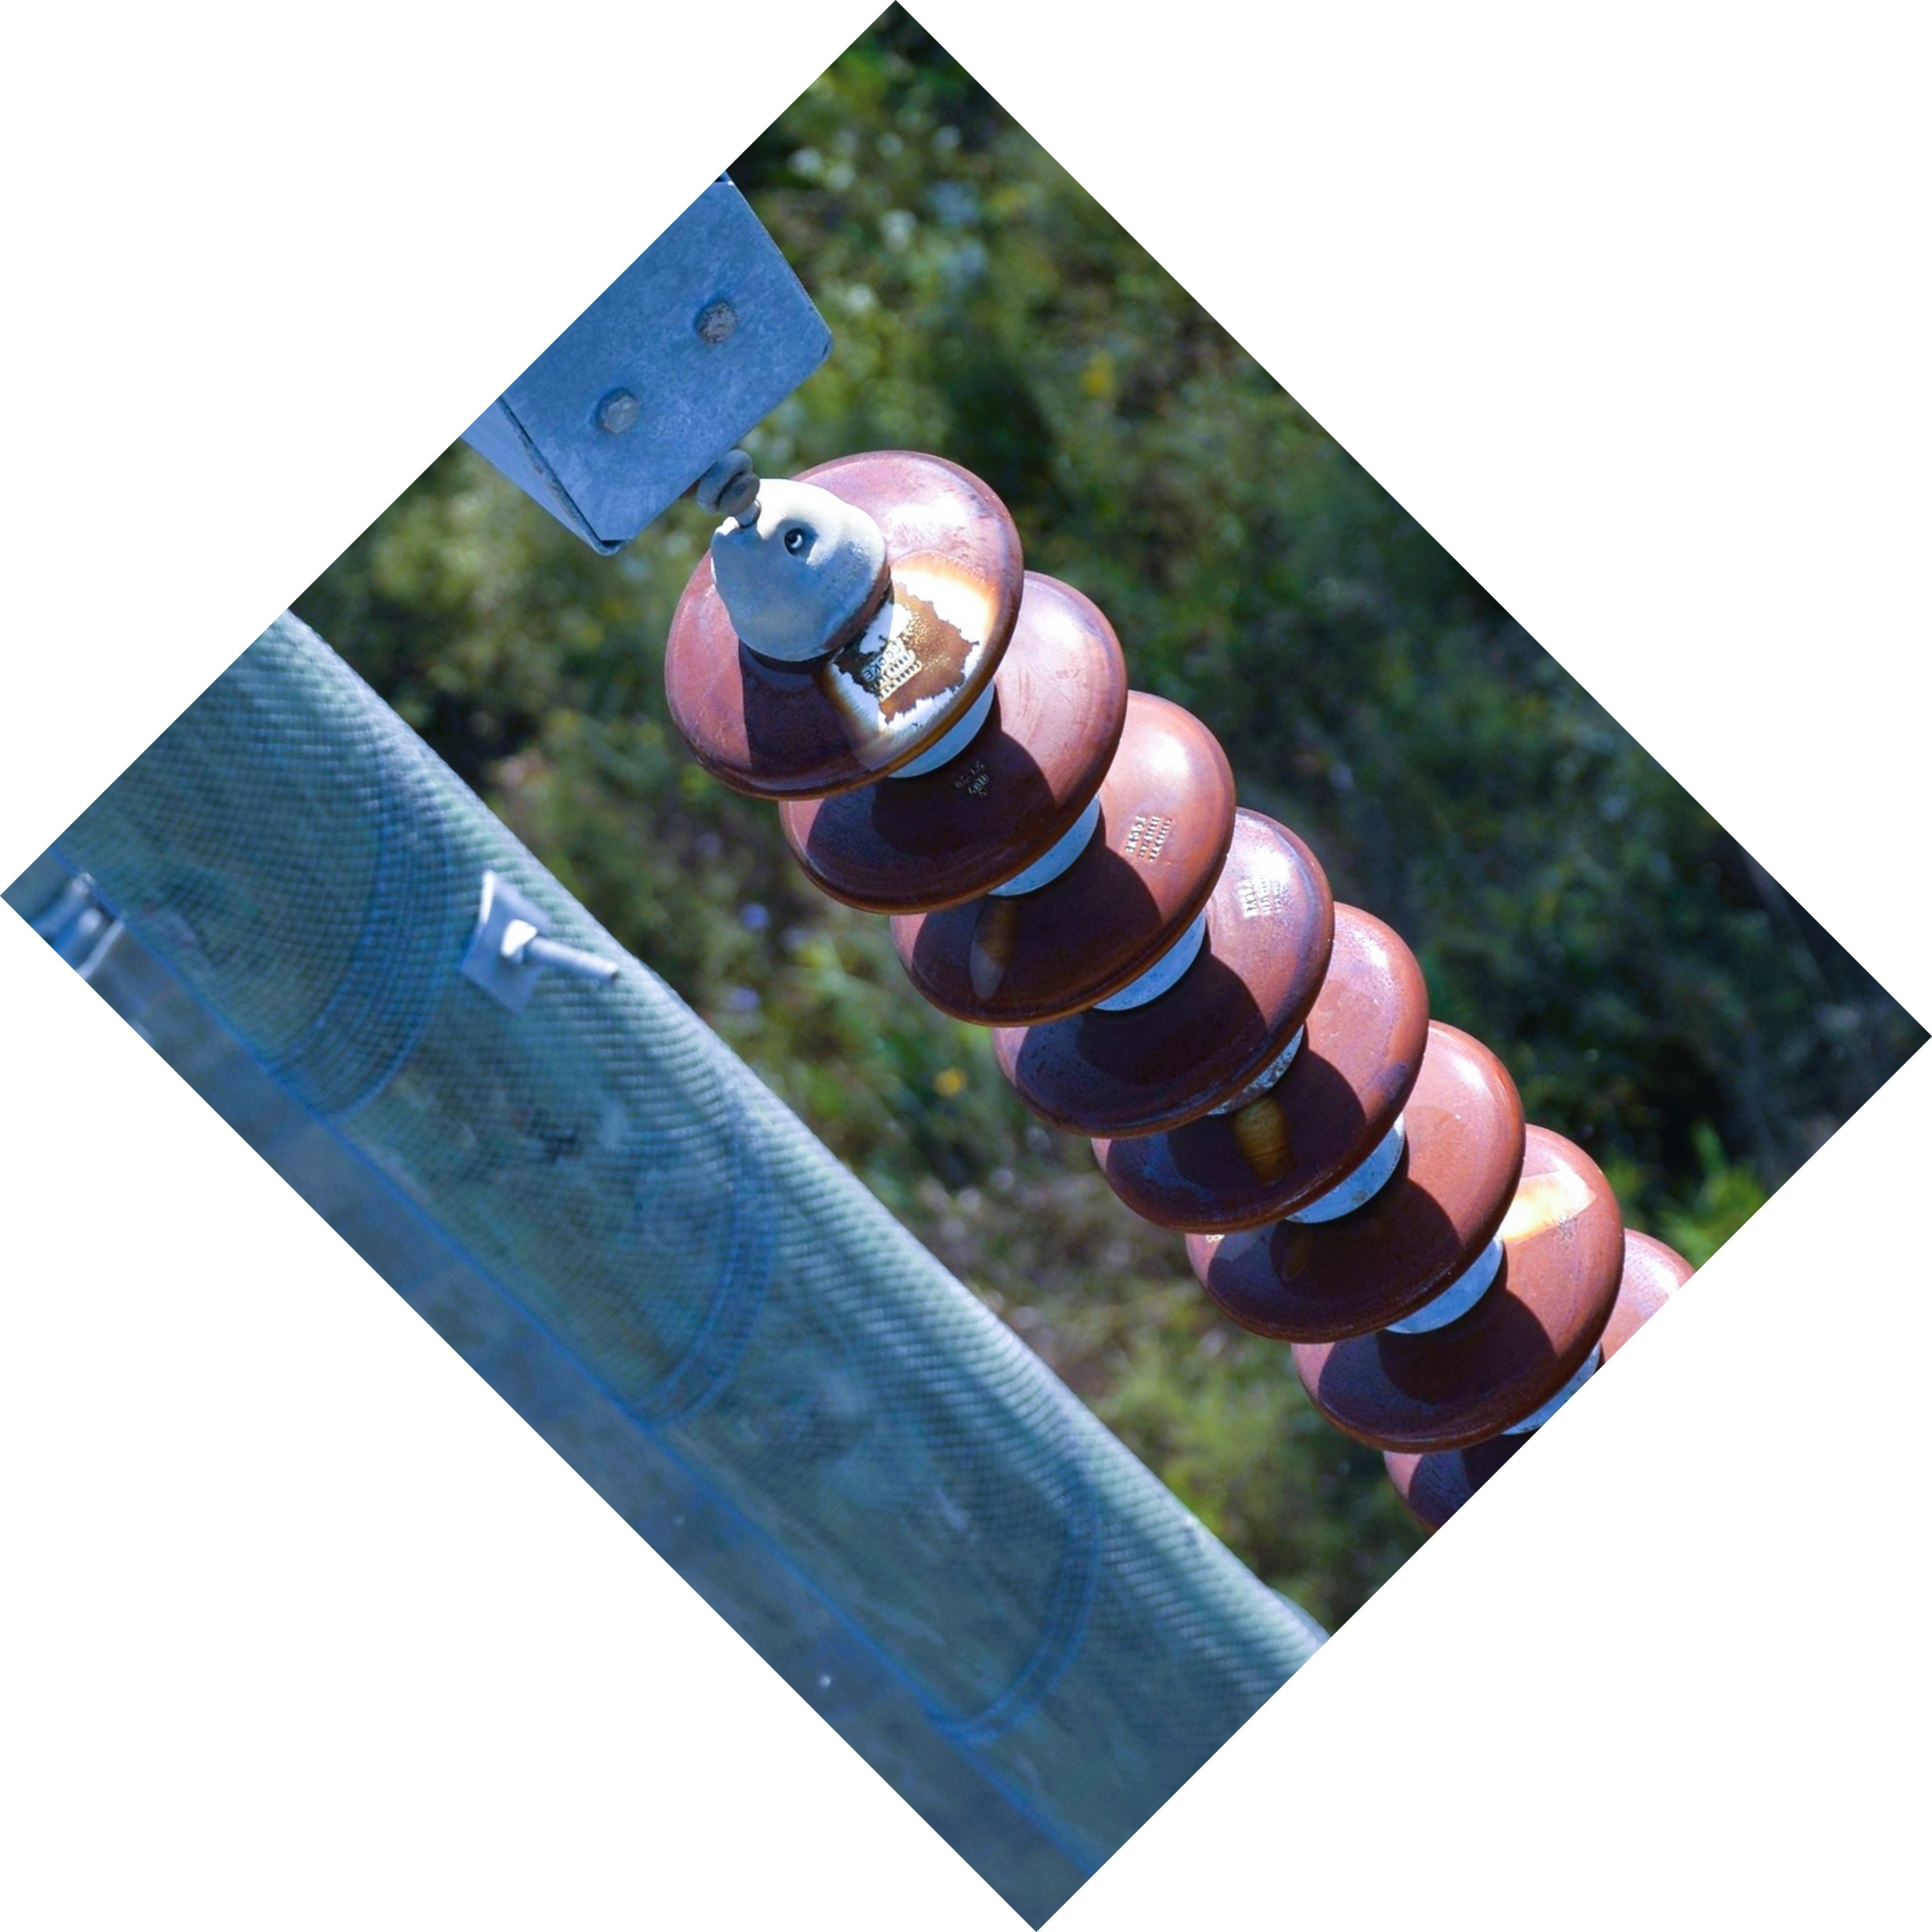Insulator flashover: (653, 430, 1035, 812)
